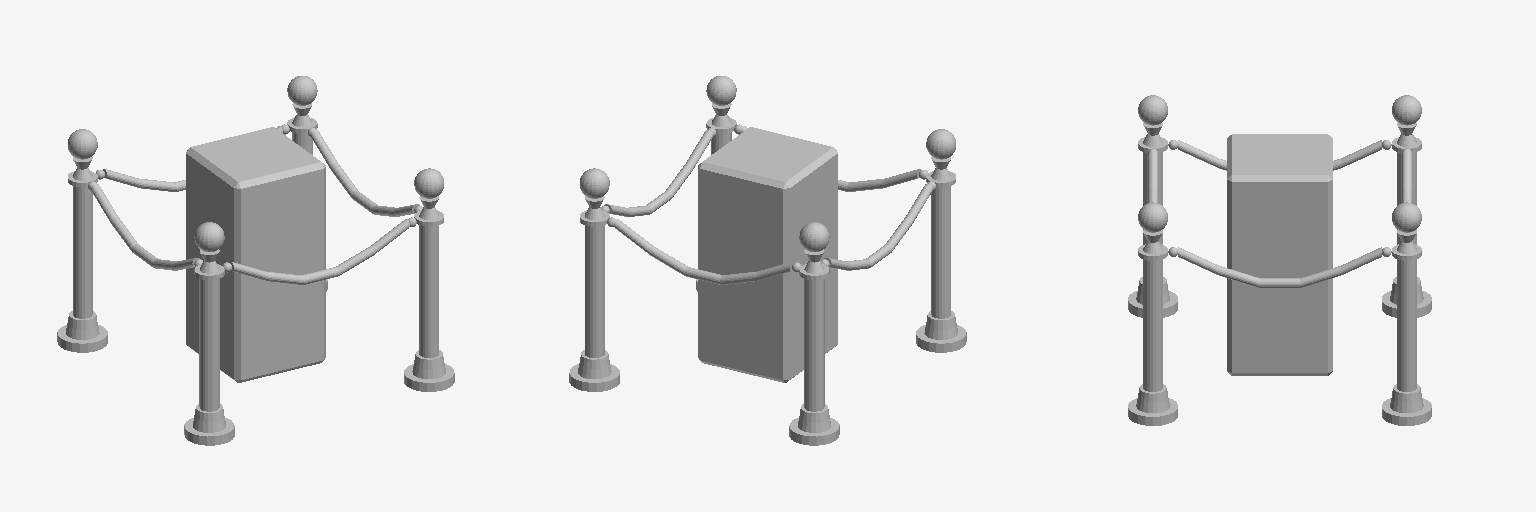
Rendered from Barrier.obj.
The picture shows the model from 3 angles: view 1: azimuth 30°, elevation 25°; view 2: azimuth 150°, elevation 25°; view 3: azimuth 270°, elevation 25°; orthographic projection.
Parts seen in each view (by area): view 1: pCube1, Barrier:pCylinder3 Barrier:polySurface1, Barrier:pCylinder7 Barrier:polySurface1, Barrier:pCylinder12 Barrier:polySurface1, Barrier:pCylinder9 Barrier:polySurface1, Barrier:pCylinder20 Barrier:polySurface1, Barrier:pCylinder19 Barrier:polySurface1, Barrier:pCylinder18 Barrier:polySurface1, Barrier:pCylinder1 Barrier:polySurface1, Barrier:pCylinder5 Barrier:polySurface1, Barrier:pCylinder10 Barrier:polySurface1, Barrier:pSphere2 Barrier:polySurface1 (+6 smaller); view 2: pCube1, Barrier:pCylinder12 Barrier:polySurface1, Barrier:pCylinder16 Barrier:polySurface1, Barrier:pCylinder3 Barrier:polySurface1, Barrier:pCylinder18 Barrier:polySurface1, Barrier:pCylinder20 Barrier:polySurface1, Barrier:pCylinder19 Barrier:polySurface1, Barrier:pCylinder9 Barrier:polySurface1, Barrier:pCylinder10 Barrier:polySurface1, Barrier:pCylinder14 Barrier:polySurface1, Barrier:pCylinder1 Barrier:polySurface1, Barrier:pSphere6 Barrier:polySurface1 (+6 smaller); view 3: pCube1, Barrier:pCylinder7 Barrier:polySurface1, Barrier:pCylinder16 Barrier:polySurface1, Barrier:pCylinder19 Barrier:polySurface1, Barrier:pCylinder20 Barrier:polySurface1, Barrier:pCylinder5 Barrier:polySurface1, Barrier:pCylinder14 Barrier:polySurface1, Barrier:pSphere1 Barrier:polySurface1, Barrier:pSphere2 Barrier:polySurface1, Barrier:pSphere5 Barrier:polySurface1, Barrier:pSphere6 Barrier:polySurface1, Barrier:pCylinder6 Barrier:polySurface1 (+5 smaller).
Boxes of the visible parts, box(x1,y1,x2,y2) form: pCube1: box(186, 127, 325, 382); Barrier:pCylinder3 Barrier:polySurface1: box(199, 279, 219, 411); Barrier:pCylinder7 Barrier:polySurface1: box(419, 225, 438, 357); Barrier:pCylinder12 Barrier:polySurface1: box(73, 186, 92, 318); Barrier:pCylinder9 Barrier:polySurface1: box(229, 219, 409, 284); Barrier:pCylinder20 Barrier:polySurface1: box(91, 183, 199, 270); Barrier:pCylinder19 Barrier:polySurface1: box(311, 130, 419, 216); Barrier:pCylinder18 Barrier:polySurface1: box(103, 126, 282, 191); Barrier:pCylinder1 Barrier:polySurface1: box(184, 418, 234, 445); Barrier:pCylinder5 Barrier:polySurface1: box(404, 364, 454, 391); Barrier:pCylinder10 Barrier:polySurface1: box(57, 325, 107, 352); Barrier:pSphere2 Barrier:polySurface1: box(414, 168, 443, 198); pCube1: box(698, 127, 837, 382); Barrier:pCylinder12 Barrier:polySurface1: box(804, 279, 824, 411); Barrier:pCylinder16 Barrier:polySurface1: box(585, 225, 604, 357); Barrier:pCylinder3 Barrier:polySurface1: box(931, 186, 950, 318); Barrier:pCylinder18 Barrier:polySurface1: box(614, 219, 794, 284); Barrier:pCylinder20 Barrier:polySurface1: box(824, 183, 932, 270); Barrier:pCylinder19 Barrier:polySurface1: box(604, 130, 712, 216); Barrier:pCylinder9 Barrier:polySurface1: box(741, 126, 920, 191); Barrier:pCylinder10 Barrier:polySurface1: box(789, 418, 839, 445); Barrier:pCylinder14 Barrier:polySurface1: box(569, 364, 619, 391); Barrier:pCylinder1 Barrier:polySurface1: box(916, 325, 966, 352); Barrier:pSphere6 Barrier:polySurface1: box(580, 168, 609, 198); pCube1: box(1227, 134, 1332, 375); Barrier:pCylinder7 Barrier:polySurface1: box(1143, 259, 1162, 391); Barrier:pCylinder16 Barrier:polySurface1: box(1397, 259, 1416, 391); Barrier:pCylinder19 Barrier:polySurface1: box(1178, 247, 1381, 287); Barrier:pCylinder20 Barrier:polySurface1: box(1178, 140, 1381, 170); Barrier:pCylinder5 Barrier:polySurface1: box(1128, 398, 1177, 425); Barrier:pCylinder14 Barrier:polySurface1: box(1382, 398, 1431, 425); Barrier:pSphere1 Barrier:polySurface1: box(1138, 95, 1167, 125); Barrier:pSphere2 Barrier:polySurface1: box(1138, 202, 1167, 232); Barrier:pSphere5 Barrier:polySurface1: box(1392, 95, 1421, 125); Barrier:pSphere6 Barrier:polySurface1: box(1392, 202, 1421, 232); Barrier:pCylinder6 Barrier:polySurface1: box(1136, 384, 1169, 412).
Size of the model in its own units: 6 by 4.6 by 6.